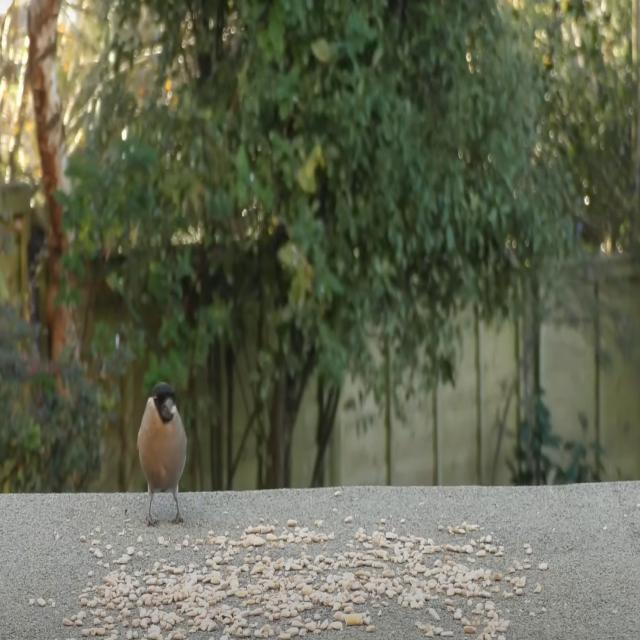beak: (160, 396, 174, 421)
bird: (134, 378, 191, 532)
